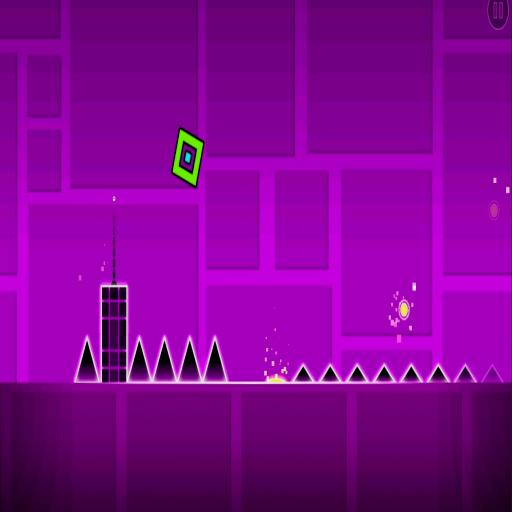block: (99, 284, 129, 384)
player: (172, 127, 204, 187)
spike: (75, 338, 98, 381), (178, 338, 201, 381), (204, 338, 227, 381), (129, 337, 151, 381), (153, 339, 175, 381), (427, 364, 450, 381), (482, 365, 503, 383), (454, 365, 476, 382), (319, 364, 340, 381), (346, 365, 367, 381), (293, 365, 313, 381), (374, 365, 394, 381), (401, 365, 421, 381)
